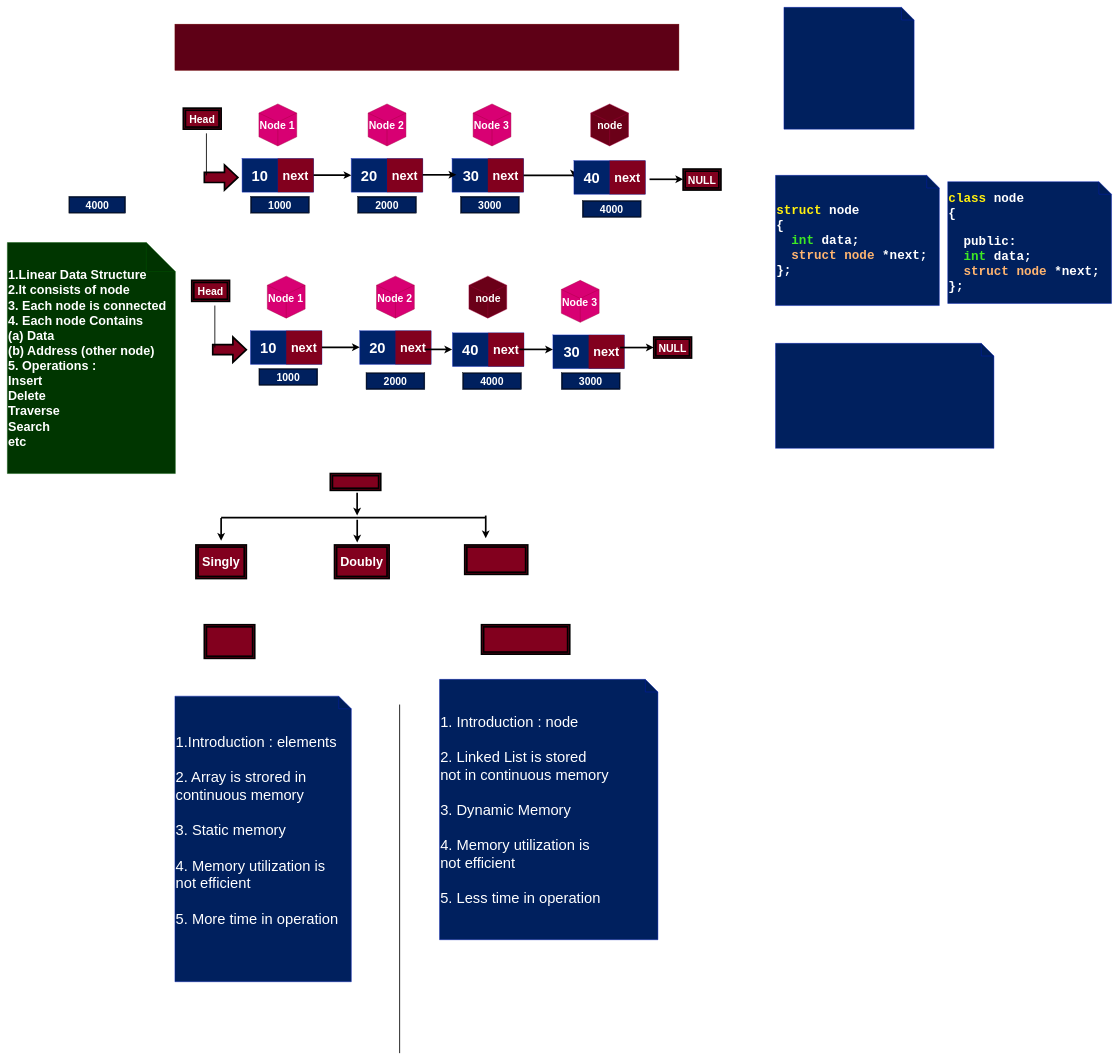
Image size: 1119x1061. Some labels were removed from this diagram. The shapes that lost their labels are listed below. From the top down, each one's centre as x and y in pixels, then its label:
At pixel 427 47: "Data Structure | Linked List Operation | Insert after a node".
At pixel 849 68: "Class Struct Without Method Create Method Void , Return".
At pixel 884 395: "First node Pointer,Reference is enough to access the whole linked List data.".
At pixel 355 481: "Types".
At pixel 496 559: "Circular".
At pixel 229 641: "Array".
At pixel 525 639: "Linked List".
